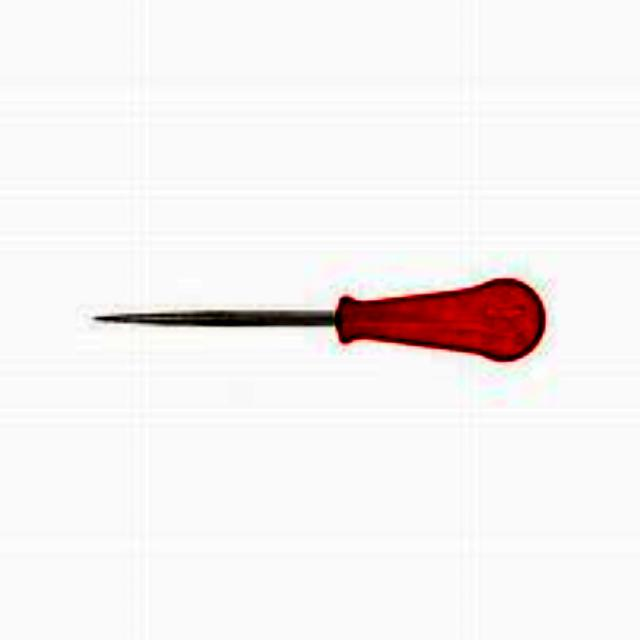ice pick: (95, 282, 541, 364)
